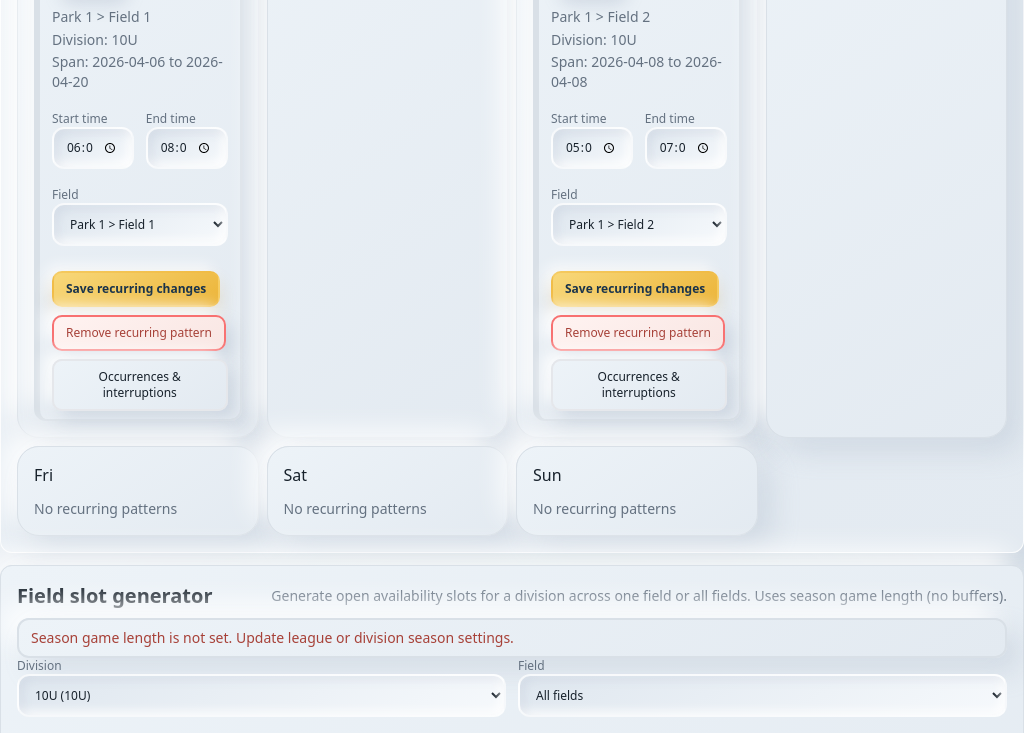
Test: SlotGeneratorManager › groups availability slots into recurring patterns and shows interruptions
(page scrolled)
Click the button "Occurrences & interruptions" below "2026-04-06" at (140,384), box [52,358,228,410]
(page scrolled)
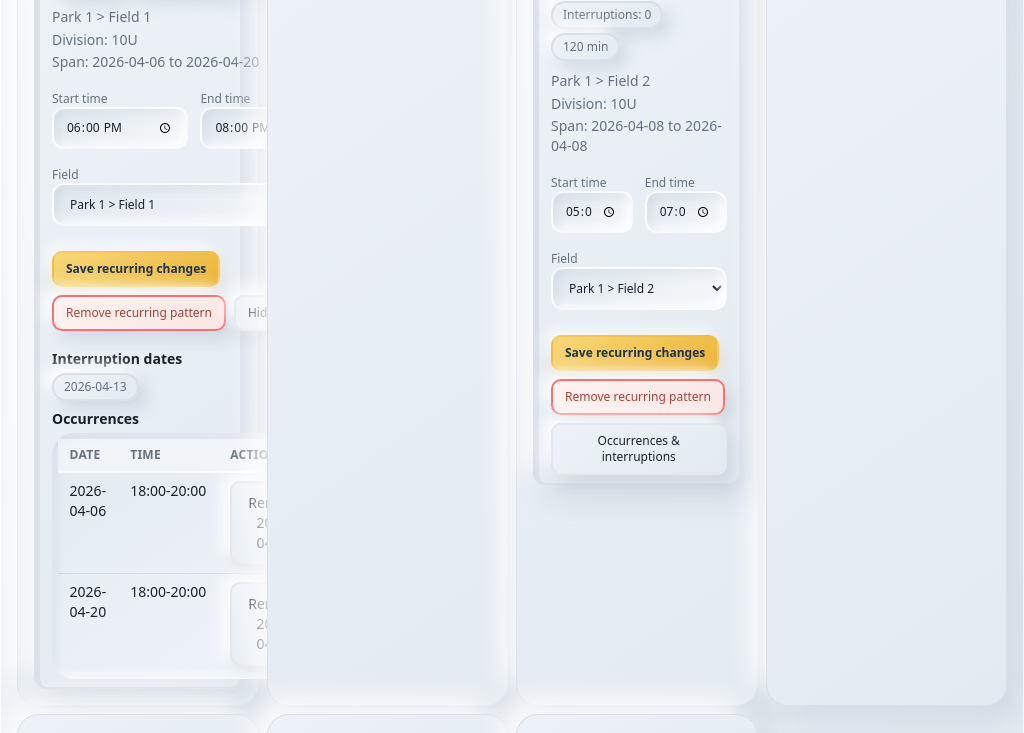
Now the text "2026-04-13" is shown, box [52,373,139,401]
